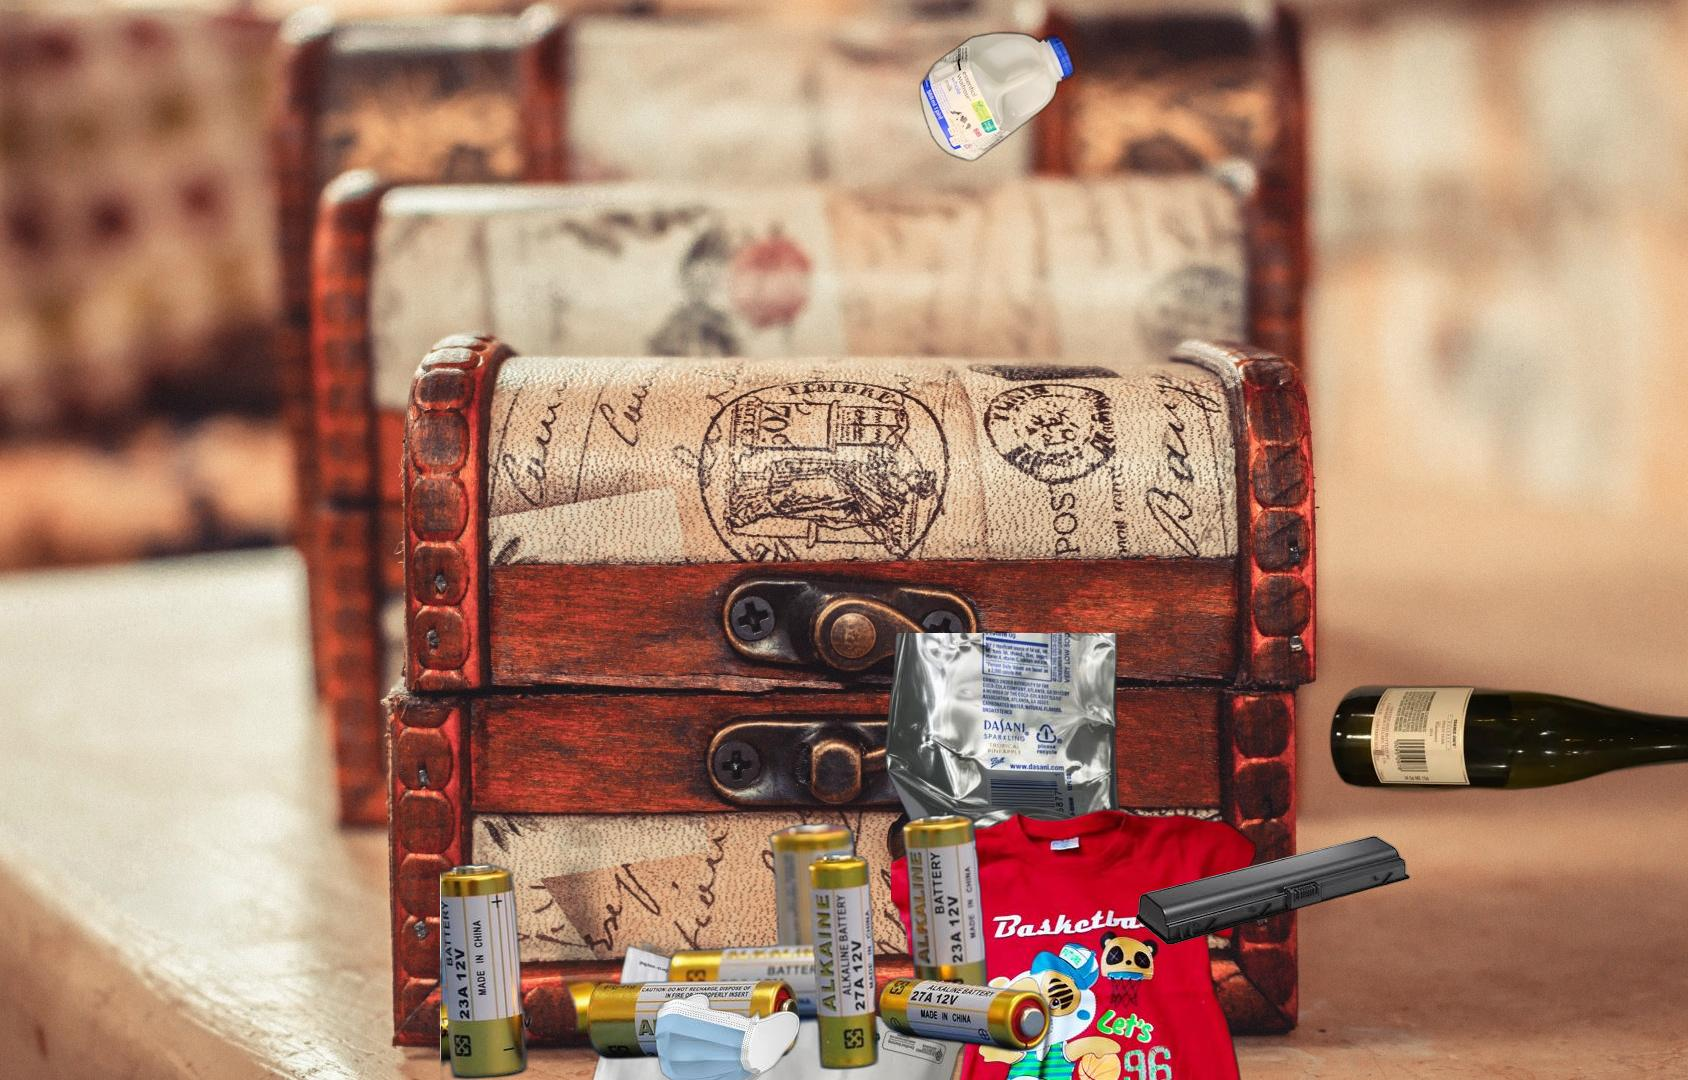battery: (440, 747, 1057, 1080), (1134, 833, 1412, 948)
clothes: (891, 804, 1260, 1080)
glass: (1326, 535, 1688, 796)
metal-cans: (881, 633, 1126, 903)
paper: (568, 939, 969, 1080)
plastic-bottles: (915, 27, 1079, 167)
trash: (651, 991, 803, 1080)
